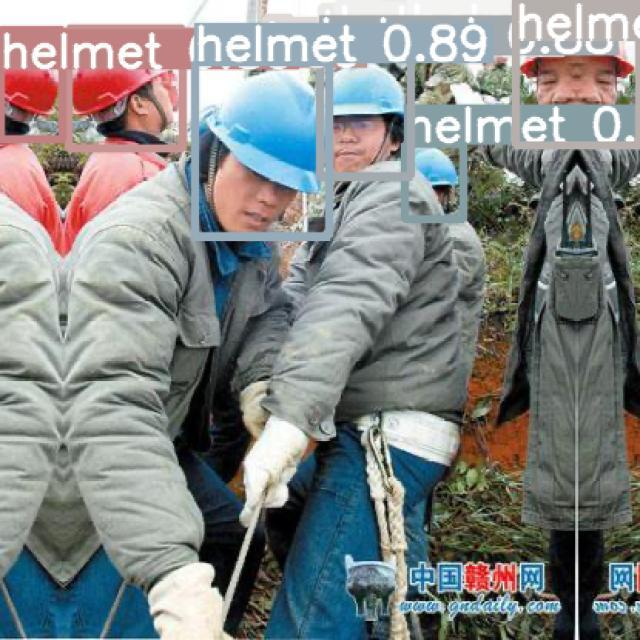blue helmet: (196, 56, 318, 201), (329, 61, 424, 126), (404, 138, 476, 216)
red helmet: (71, 46, 179, 151), (513, 31, 640, 89), (4, 54, 64, 134)
